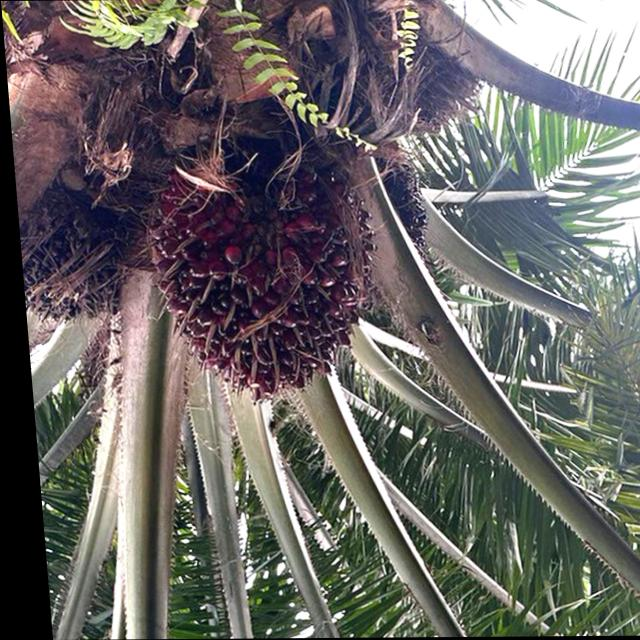ripe: (106, 128, 413, 423)
